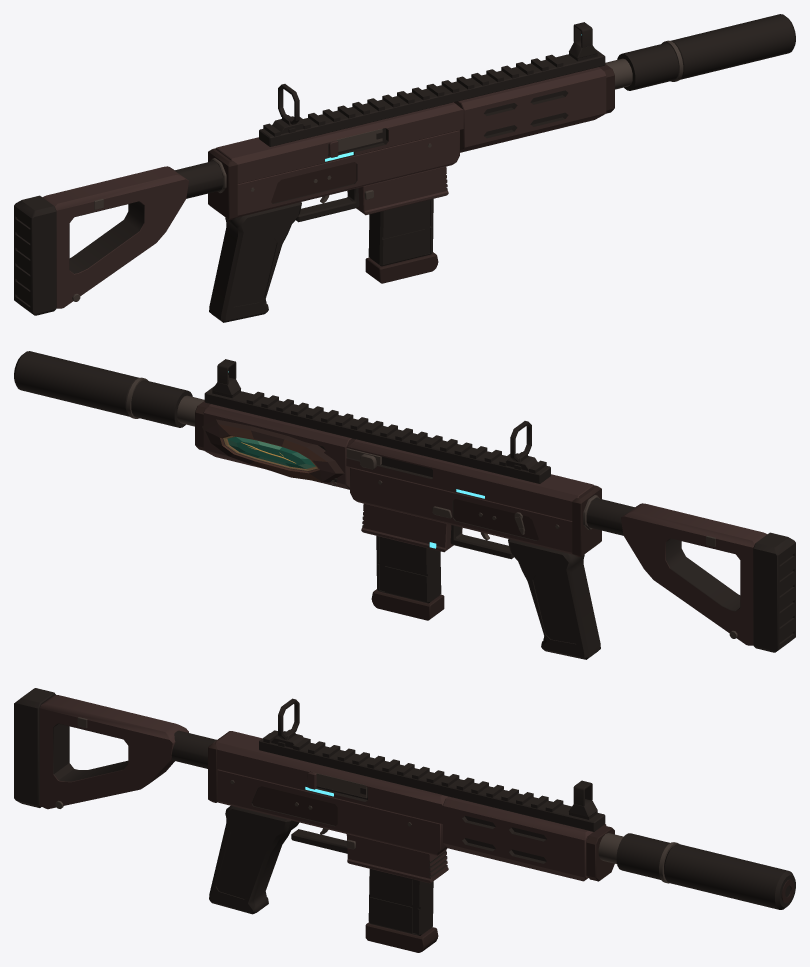
File: Phantom_Rootglass_v01.fbx
3 views of the same model, one above another, from view 1: azimuth 30°, elevation 25°; view 2: azimuth 150°, elevation 25°; view 3: azimuth 330°, elevation 25° (orthographic).
Parts seen in each view (by area): view 1: Phantom_Receiver, Phantom_Stock, Phantom_Handguard, Phantom_Grip, Phantom_Suppressor, Phantom_Rail, Phantom_Mag, Phantom_Sights, Phantom_Bolt; view 2: Phantom_Receiver, Phantom_Stock, Phantom_Grip, Phantom_Suppressor, Phantom_Rail, Phantom_Mag, Phantom_Handguard, Rootglass_Left_CarvedShell, Phantom_Sights, Rootglass_Left_FacetedMineral; view 3: Phantom_Receiver, Phantom_Stock, Phantom_Handguard, Phantom_Suppressor, Phantom_Rail, Phantom_Grip, Phantom_Mag, Phantom_Sights, Phantom_Bolt.
Boxes of the visible parts, x1=… form: Phantom_Receiver: x1=208, y1=102, x2=463, y2=220; Phantom_Stock: x1=14, y1=158, x2=226, y2=315; Phantom_Handguard: x1=454, y1=64, x2=614, y2=152; Phantom_Grip: x1=209, y1=188, x2=359, y2=322; Phantom_Suppressor: x1=605, y1=14, x2=795, y2=90; Phantom_Rail: x1=259, y1=49, x2=605, y2=146; Phantom_Mag: x1=365, y1=199, x2=438, y2=283; Phantom_Sights: x1=272, y1=22, x2=597, y2=133; Phantom_Bolt: x1=328, y1=128, x2=382, y2=154; Phantom_Receiver: x1=346, y1=439, x2=601, y2=557; Phantom_Stock: x1=583, y1=495, x2=795, y2=652; Phantom_Grip: x1=450, y1=525, x2=600, y2=659; Phantom_Suppressor: x1=14, y1=351, x2=204, y2=427; Phantom_Rail: x1=204, y1=386, x2=550, y2=483; Phantom_Mag: x1=371, y1=536, x2=444, y2=620; Phantom_Handguard: x1=195, y1=401, x2=355, y2=489; Rootglass_Left_CarvedShell: x1=202, y1=419, x2=344, y2=482; Phantom_Sights: x1=212, y1=359, x2=537, y2=470; Rootglass_Left_FacetedMineral: x1=227, y1=436, x2=315, y2=468; Phantom_Receiver: x1=208, y1=731, x2=448, y2=883; Phantom_Stock: x1=14, y1=688, x2=219, y2=809; Phantom_Handguard: x1=443, y1=796, x2=614, y2=881; Phantom_Suppressor: x1=598, y1=833, x2=795, y2=909; Phantom_Rail: x1=259, y1=730, x2=605, y2=831; Phantom_Grip: x1=209, y1=806, x2=347, y2=914; Phantom_Mag: x1=365, y1=869, x2=438, y2=952; Phantom_Sights: x1=271, y1=698, x2=597, y2=819; Phantom_Bolt: x1=313, y1=772, x2=367, y2=798.
Bounding box in the file's own units: 360 × 96.5 × 21.8.
